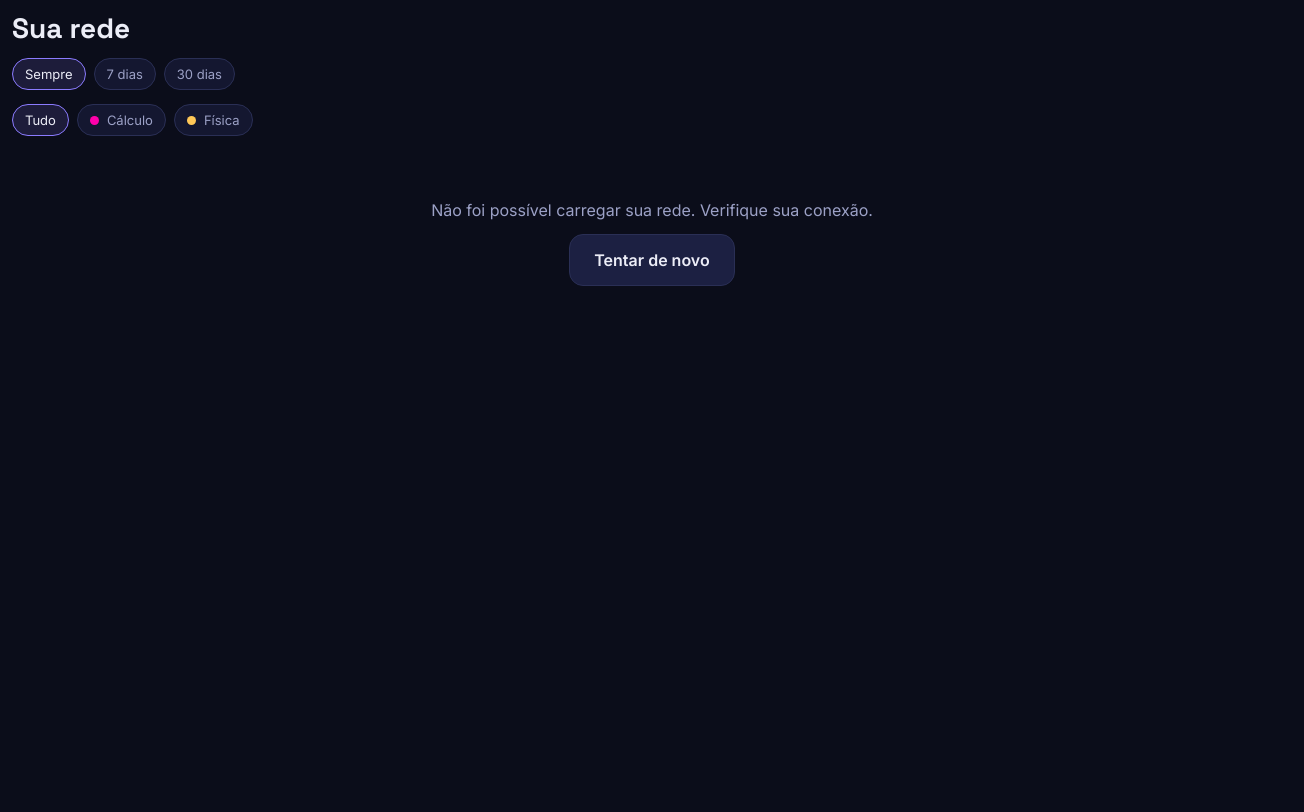
tela da rede neural › sem conexão, avisa e deixa tentar de novo
Expected: the message shows "Não foi possível carregar sua rede", [431,200,873,220]
Click the button "Tentar de novo".
click(652, 260)  # box [569,234,735,286]
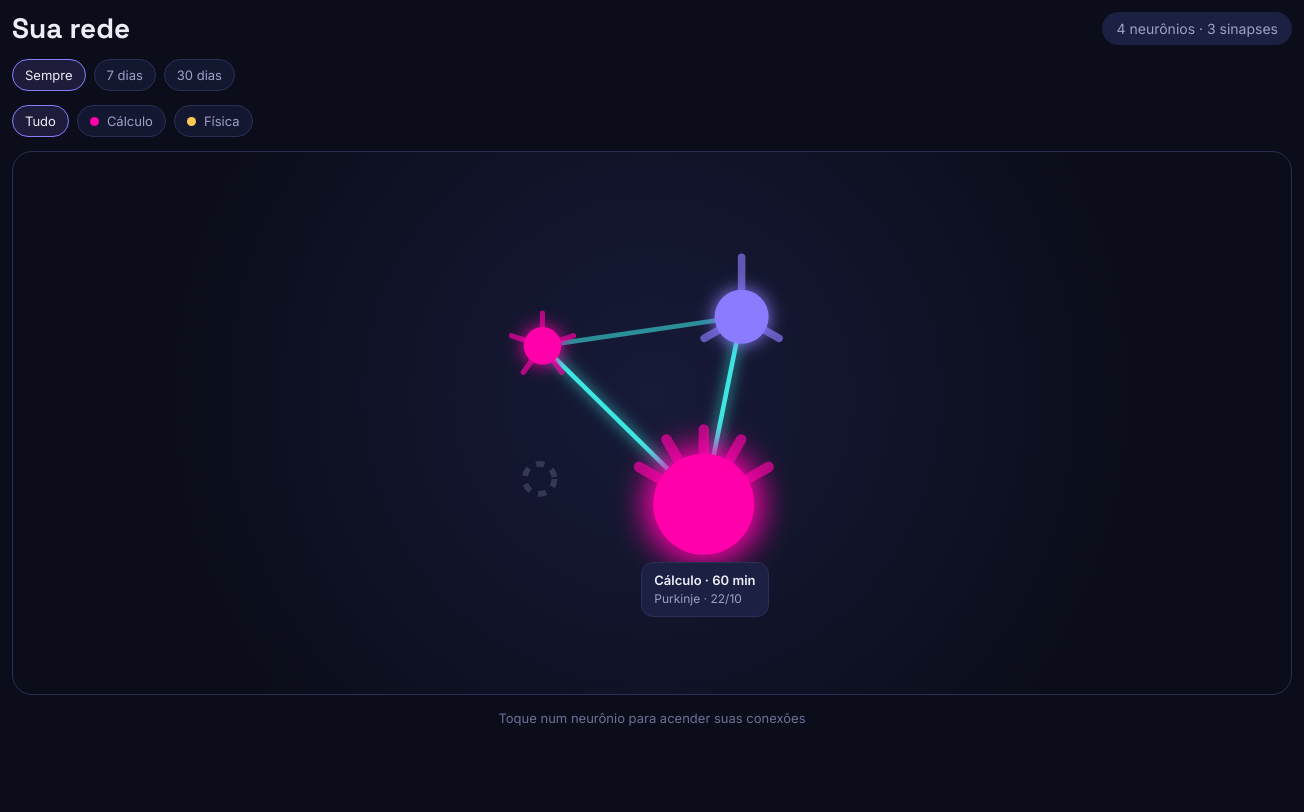
Expected: the text "4 neurônios · 3 sinapses" is shown, [1102,12,1292,45]
